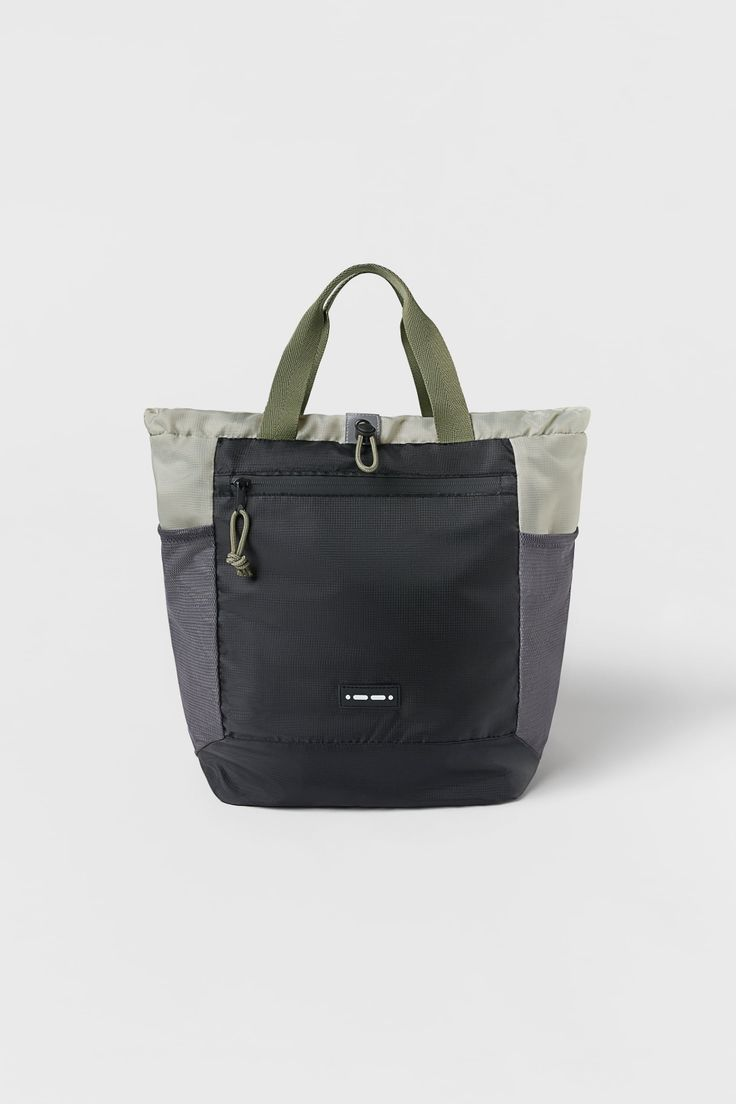nylon: (139, 405, 596, 815)
